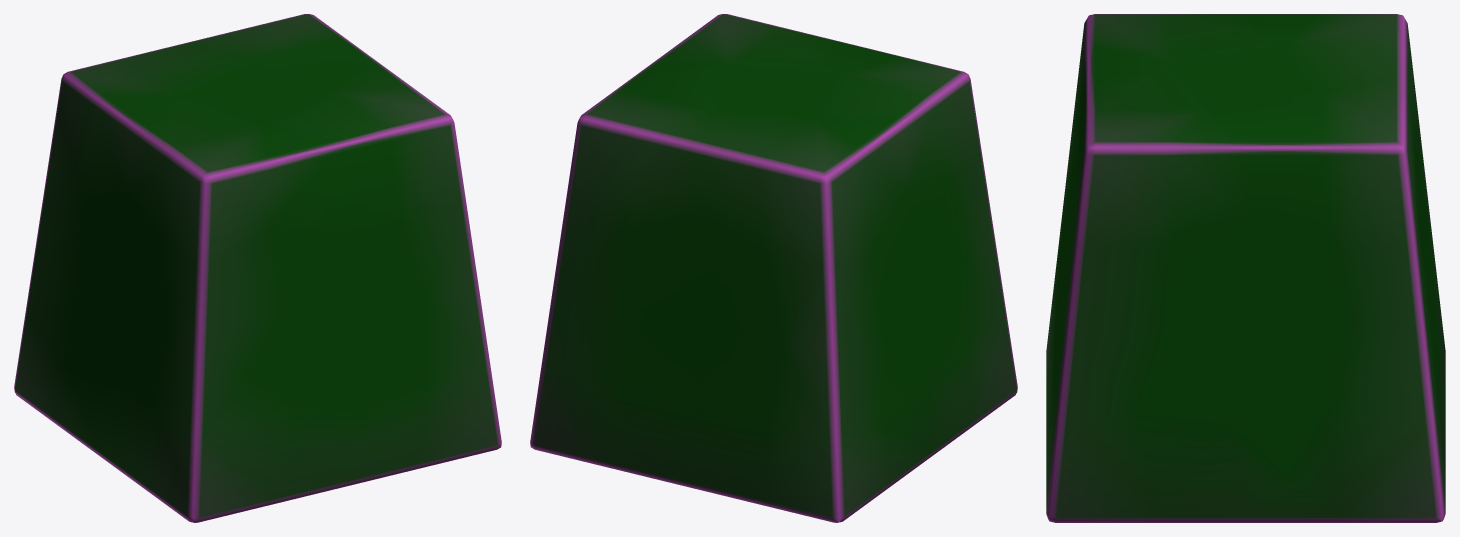
Rendered from pillar_stand_01.fbx.
3 renders of one model, left to right at view 1: azimuth 30°, elevation 25°; view 2: azimuth 150°, elevation 25°; view 3: azimuth 270°, elevation 25°, orthographic. The views are drawn at different scales.
Visible parts, largest first — view 1: pillar_stand_01; view 2: pillar_stand_01; view 3: pillar_stand_01.
Boxes of the visible parts, bbox=[...] form: pillar_stand_01: bbox=[14, 14, 501, 522]; pillar_stand_01: bbox=[530, 14, 1017, 522]; pillar_stand_01: bbox=[1046, 14, 1445, 522].
Size of the model in its own units: 0.398 by 0.4 by 0.398.
